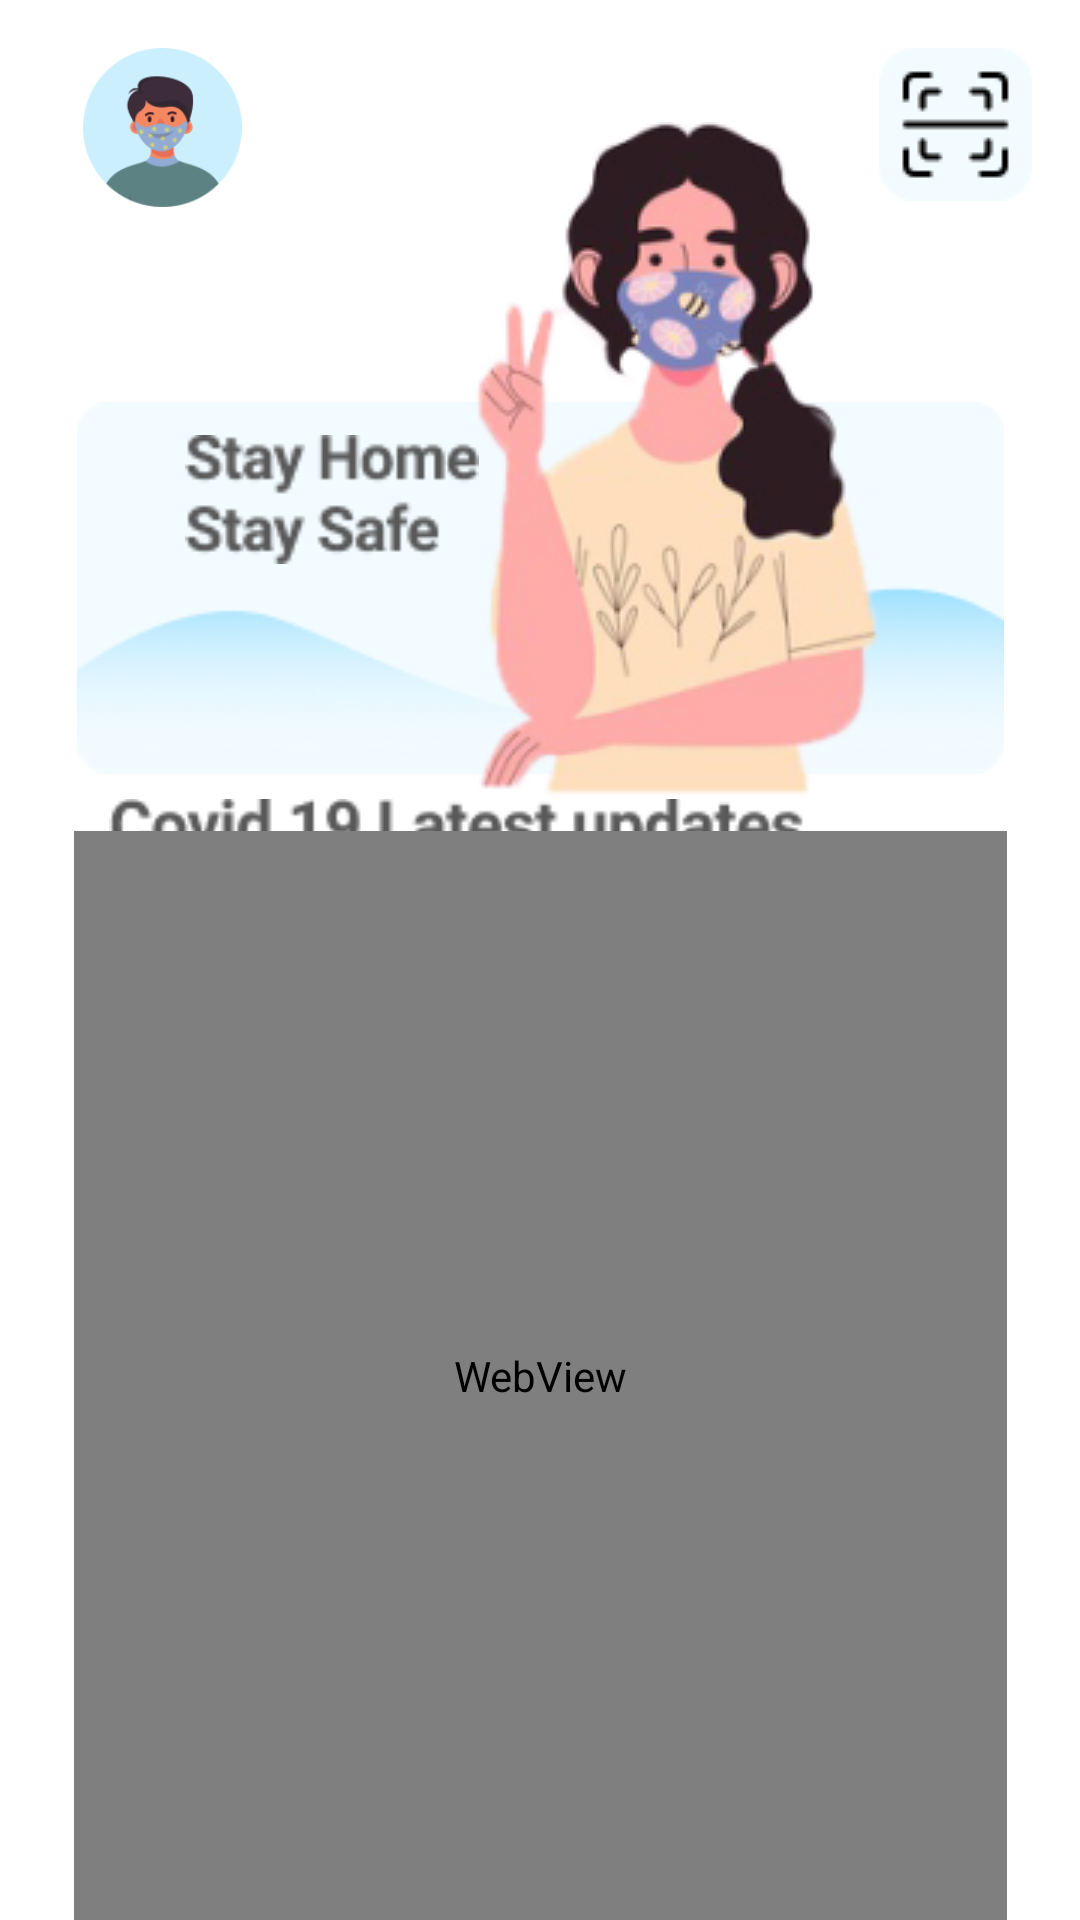

Screen size 1080*1920. Icon name, then its box in pixels as (x1, y1, x2, y2):
profile: (83, 48, 242, 207)
scanner: (879, 48, 1032, 201)
